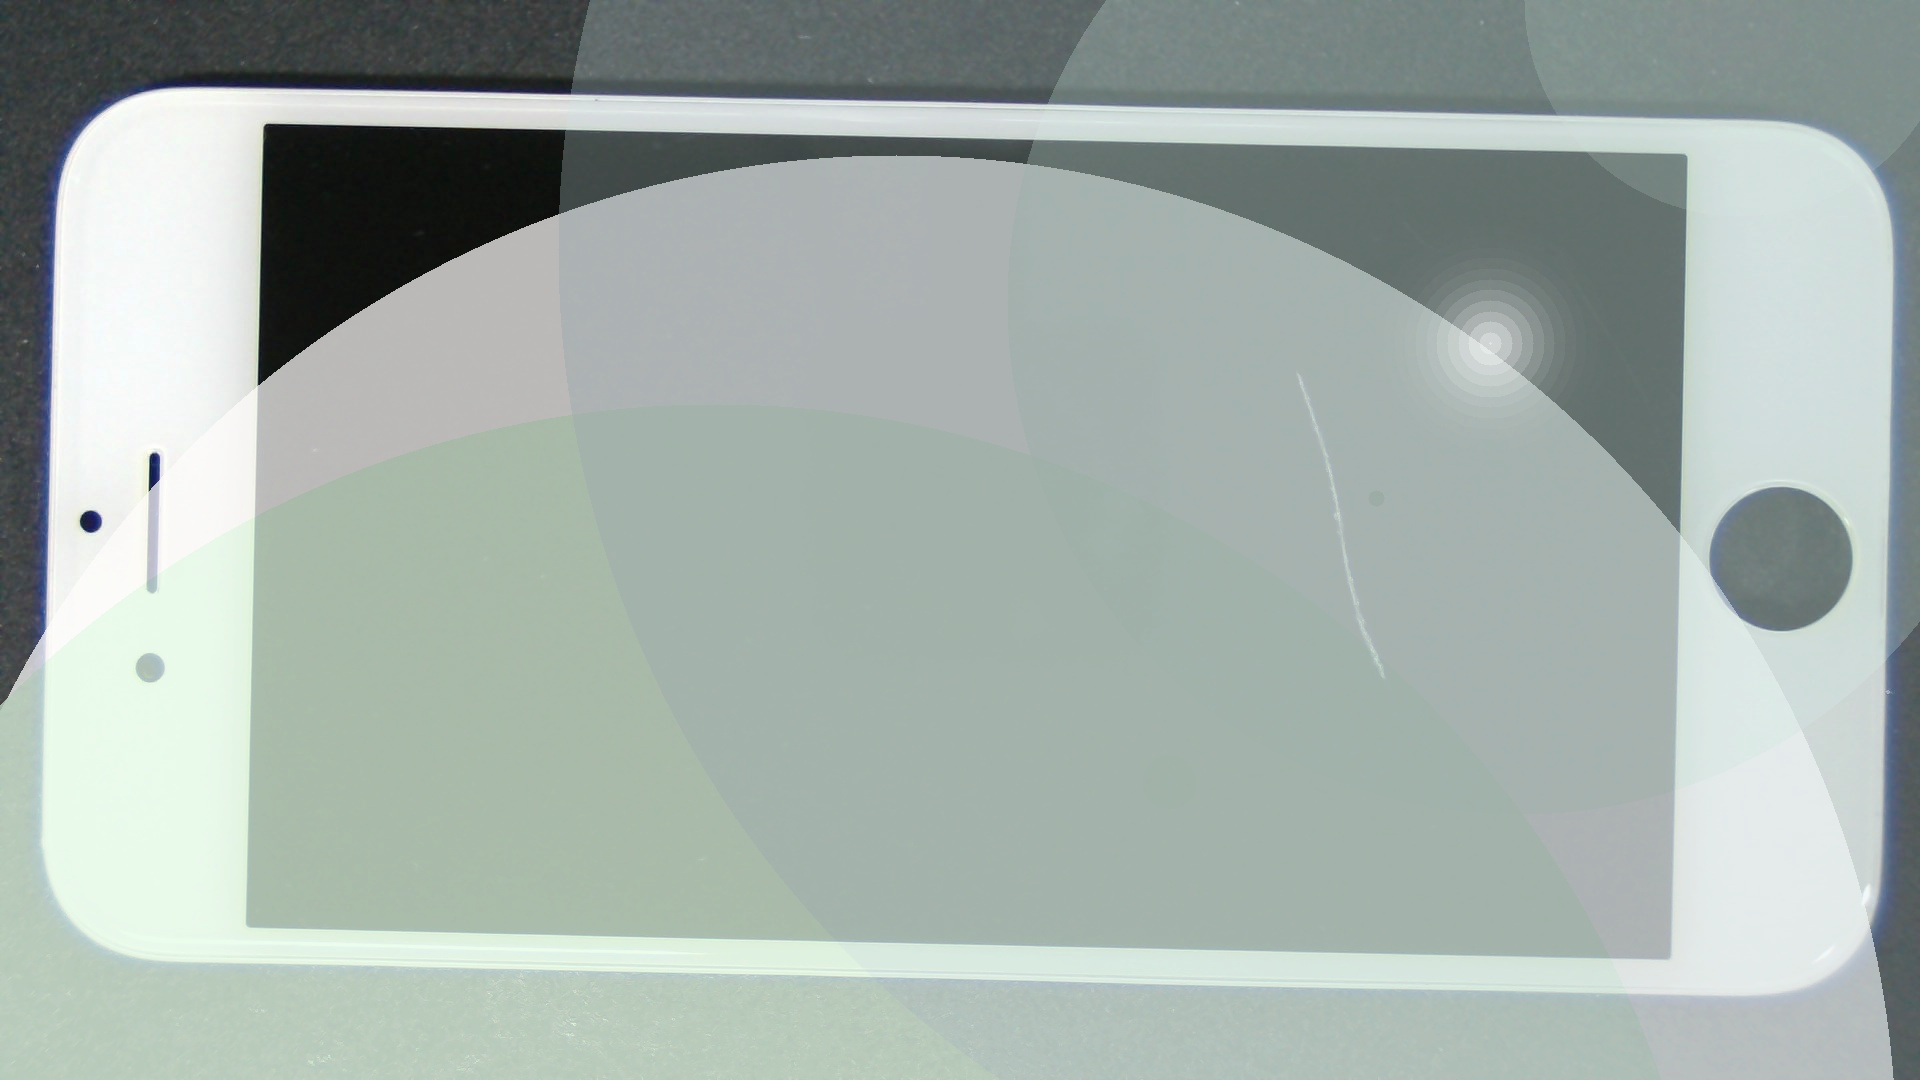oil: (647, 183, 1920, 556)
